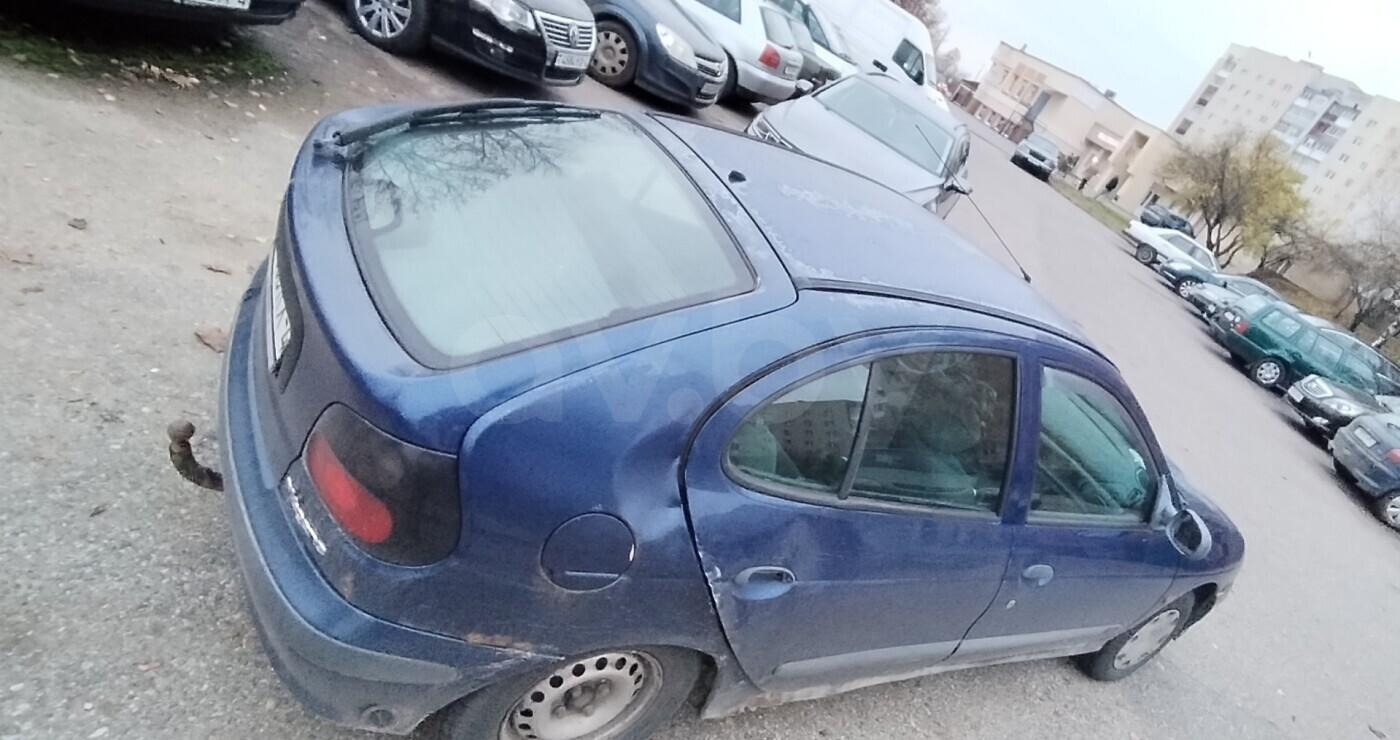Megane_1995-1999: (190, 90, 1242, 740)
